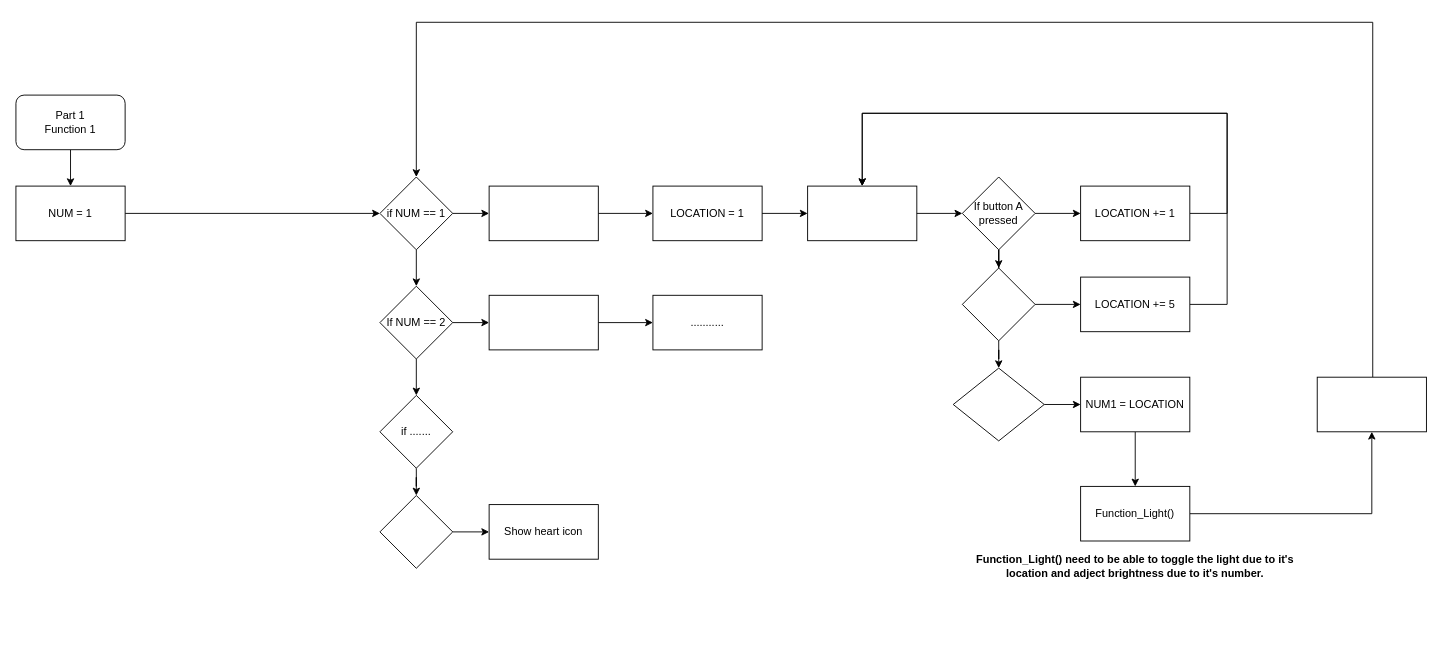
The diagram is 1442 pixels wide and 662 high, and some of its shapes have lost their labels. The centre of each missing label's shape, as x and y in pixels:
"If button A&B pressed" goes at point (998, 404).
"If button B pressed" goes at point (998, 304).
"If NUM == 26" goes at point (416, 531).
"NUM += 1" goes at point (1371, 404).
"NUM1 = 0" goes at point (543, 213).
"NUM2 = 0" goes at point (543, 322).
"Show LOCATION" goes at point (862, 213).
